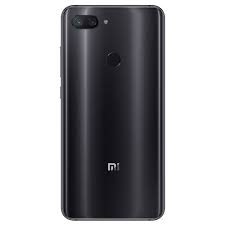mi: (58, 2, 166, 223)
